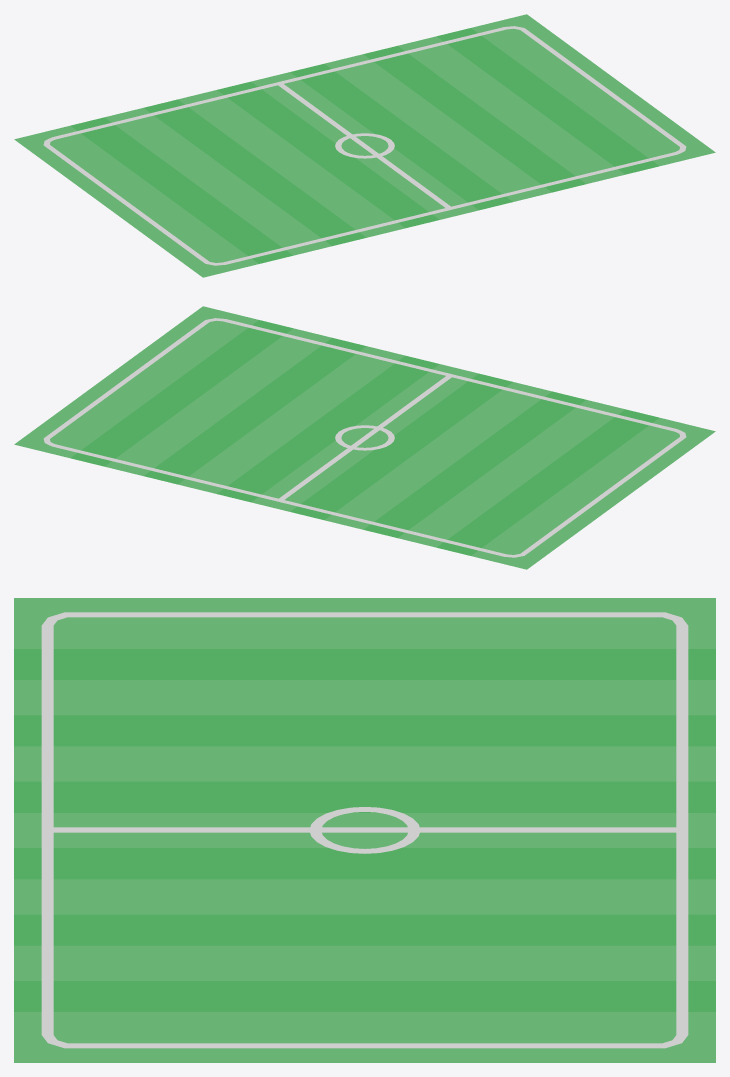
The model's file is Playfield.fbx.
3 views of the same model, one above another, from view 1: azimuth 30°, elevation 25°; view 2: azimuth 150°, elevation 25°; view 3: azimuth 270°, elevation 25° (orthographic). The views are drawn at different scales.
Parts seen in each view (by area): view 1: Playfield; view 2: Playfield; view 3: Playfield.
Part boxes in pixels (left/top/right/bottom): Playfield: left=14, top=14, right=715, bottom=277; Playfield: left=14, top=306, right=715, bottom=569; Playfield: left=14, top=598, right=715, bottom=1062.
Bounding box in the file's own units: 3864 × 0.597 × 2467.
